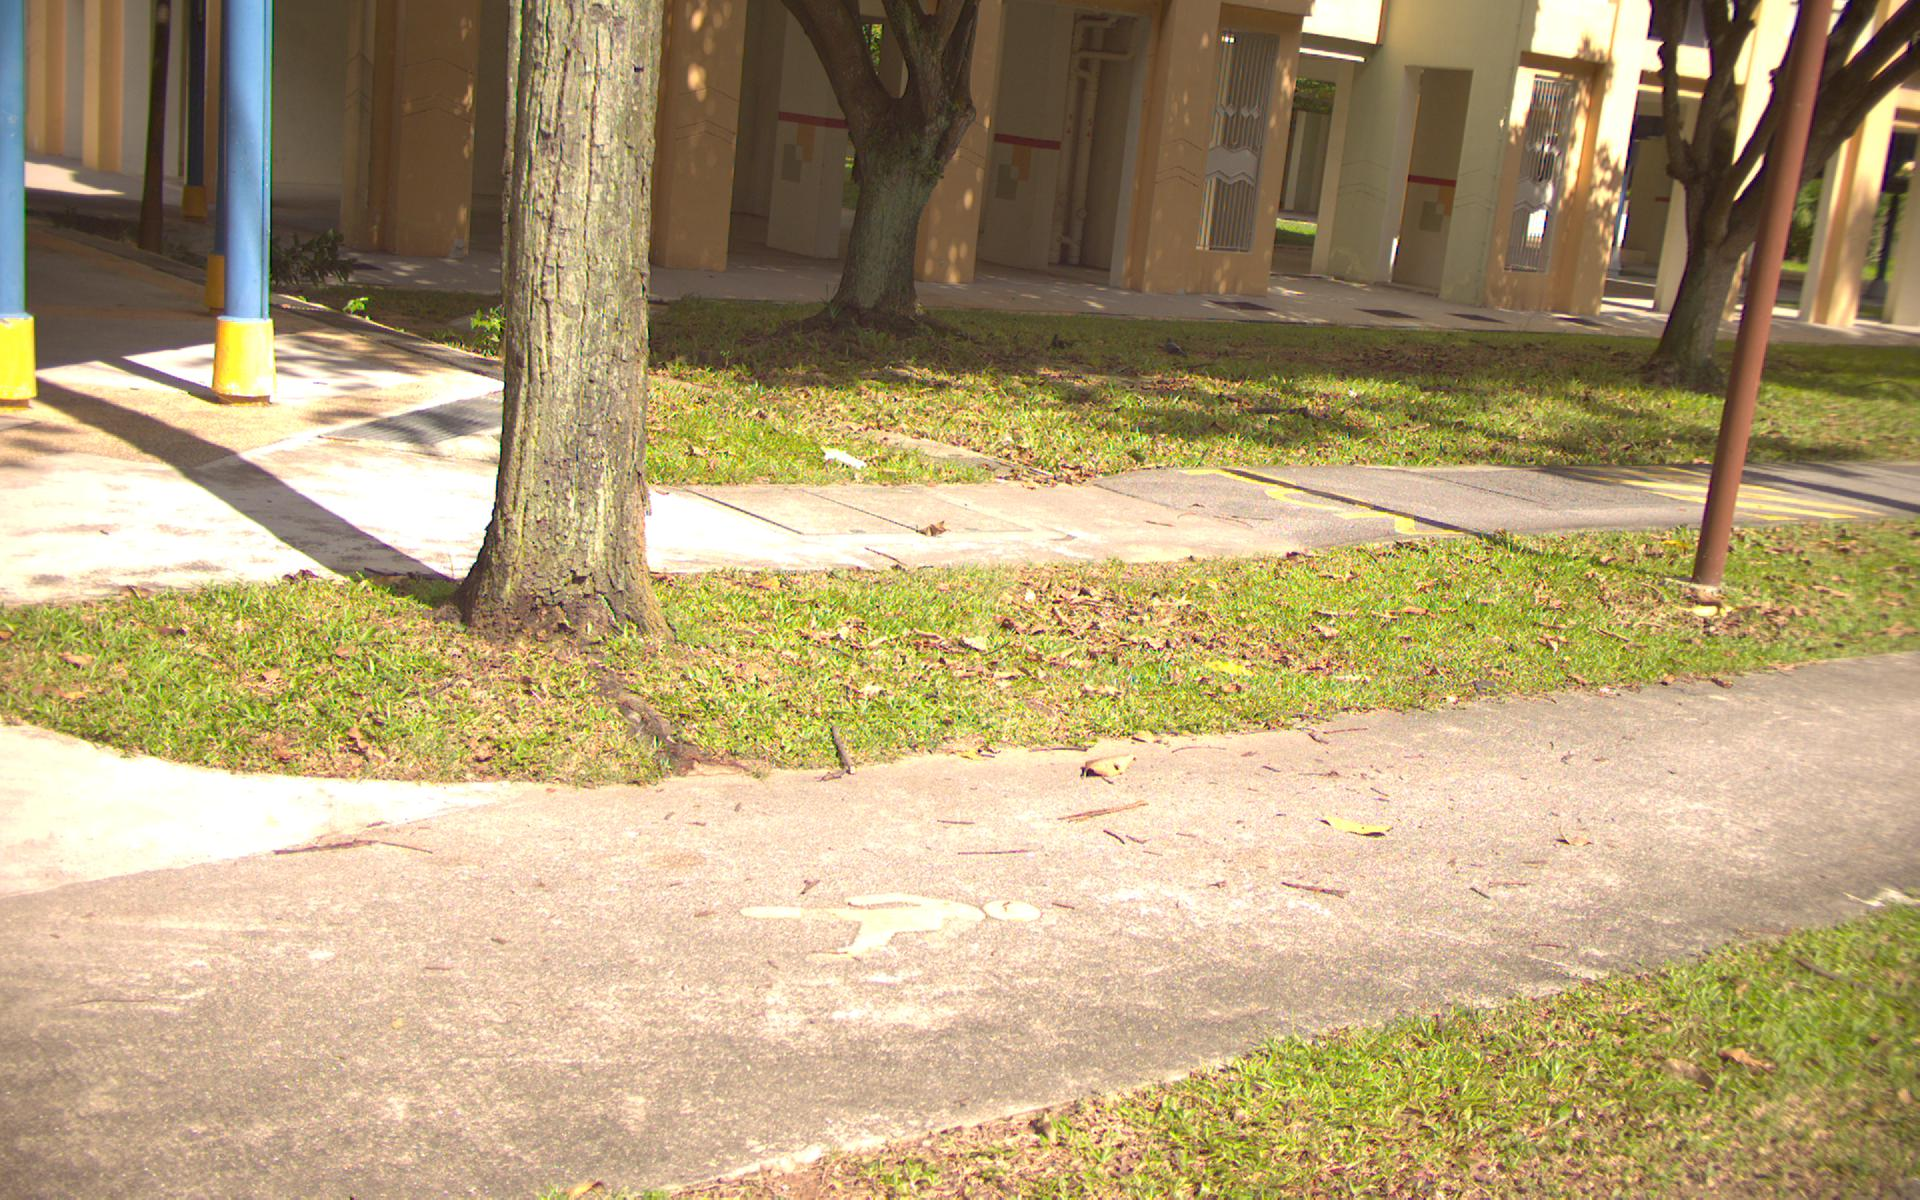pathway_low: (1, 766, 1919, 899), (669, 466, 1919, 514)
road_turf_low: (665, 303, 1920, 445), (151, 576, 1913, 666), (1252, 1051, 1920, 1200)
